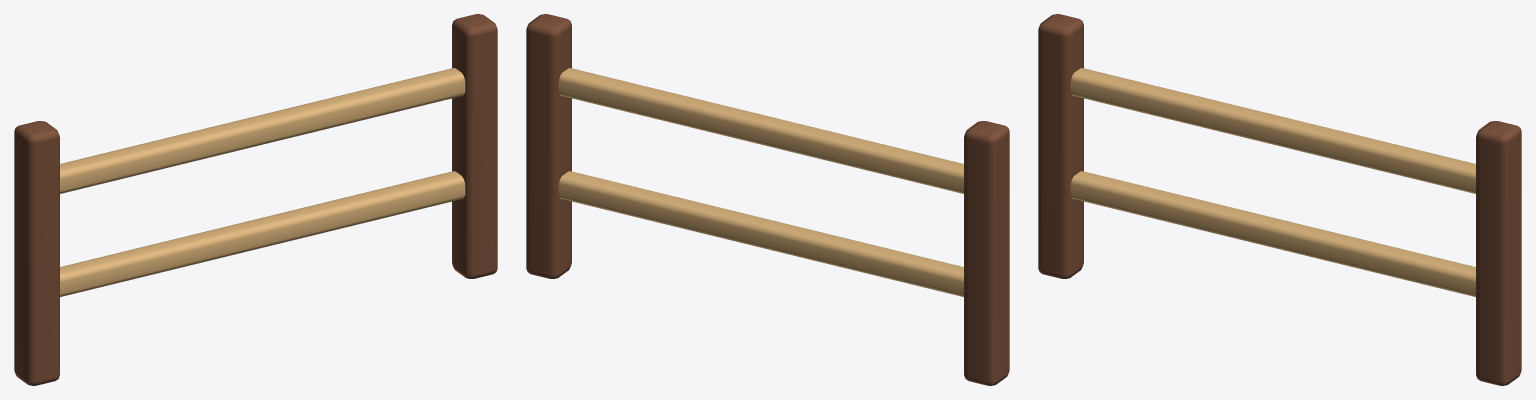
File: Fence.fbx
The picture shows the model from 3 angles, left to right: view 1: azimuth 30°, elevation 25°; view 2: azimuth 150°, elevation 25°; view 3: azimuth 330°, elevation 25°; orthographic projection.
Parts seen in each view (by area): view 1: Fence_Static; view 2: Fence_Static; view 3: Fence_Static.
Boxes of the visible parts, x1,y1,x2,y2 form: Fence_Static: (14, 14, 497, 385); Fence_Static: (526, 14, 1009, 385); Fence_Static: (1038, 14, 1521, 385).
Size of the model in its own units: 2.15 by 1.1 by 0.15.
Materials: 1 (1 with a texture image).
